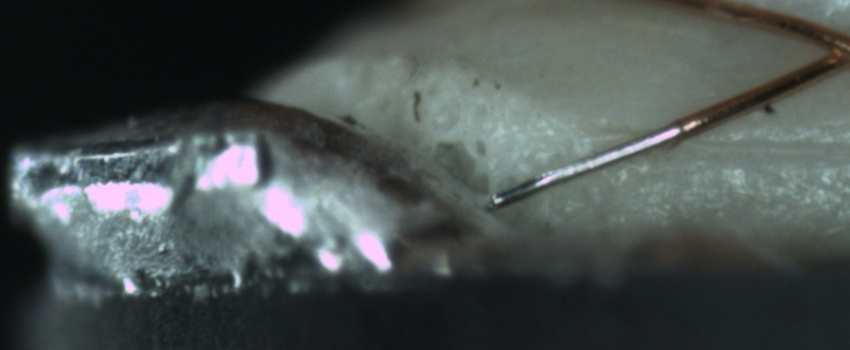CL: (799, 18, 850, 78)
DL: (579, 111, 850, 172)
TS: (488, 125, 686, 208)
